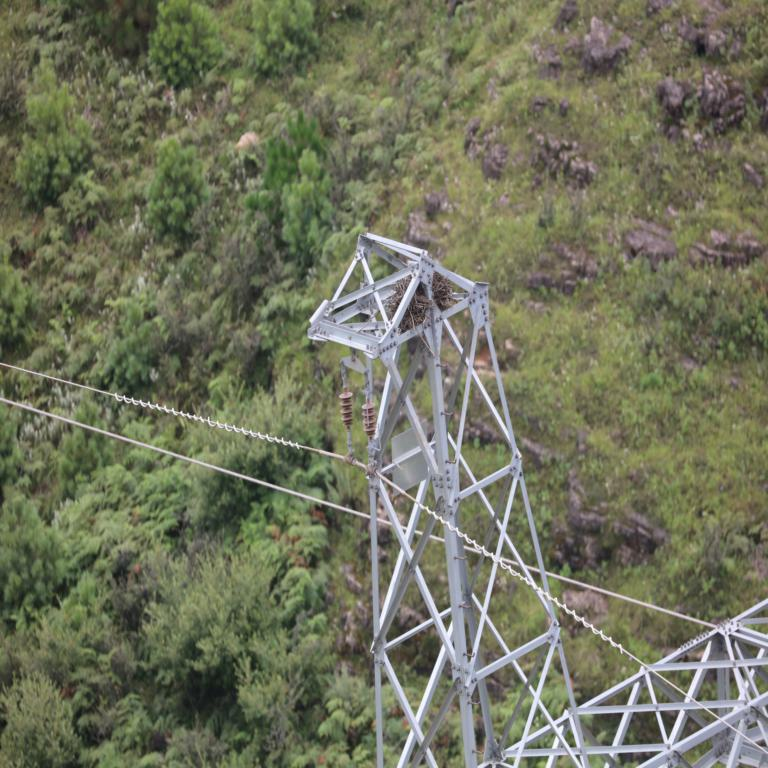nest: (390, 277, 454, 324)
